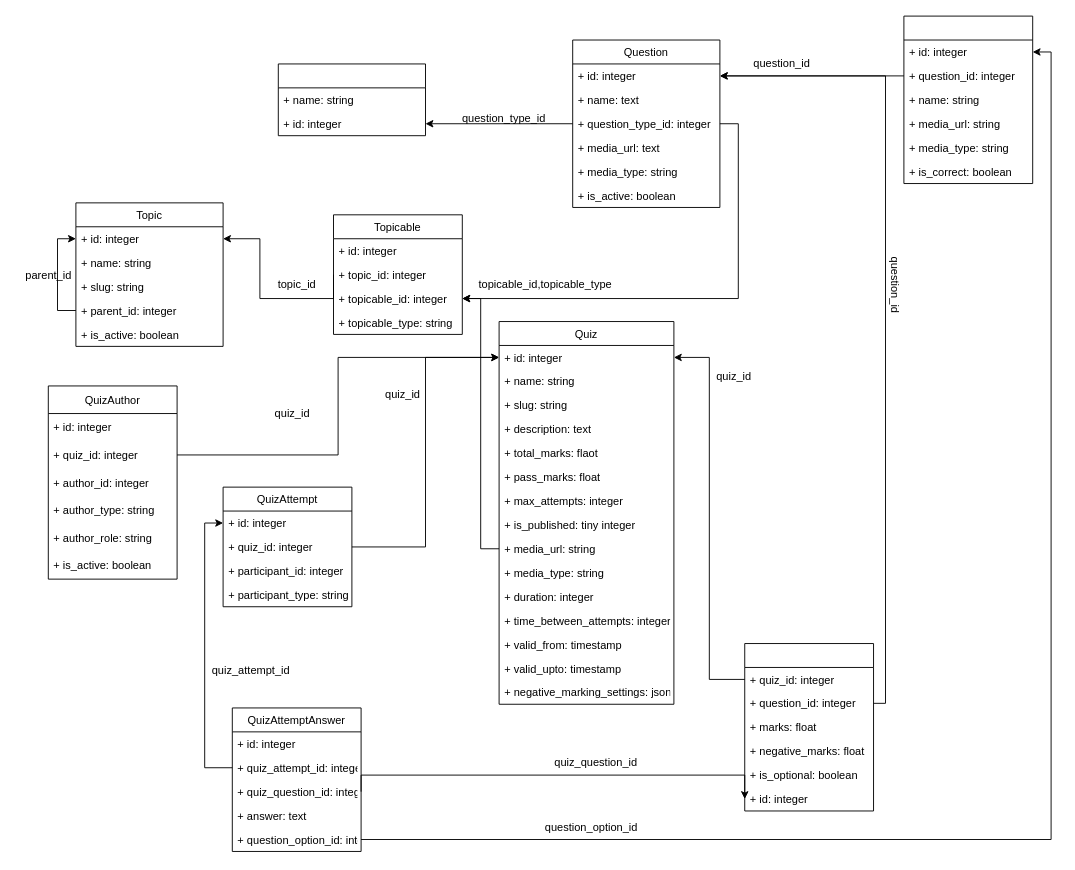
Some shapes in this 1075 by 870 pixel diagram are drawn without their labels. Here are the shapes that lost their labels. From the top down, the box of each, then its label:
(277, 63, 426, 136): QuestionType
(903, 15, 1033, 184): QuestionOption
(744, 643, 874, 811): QuizQuestion
